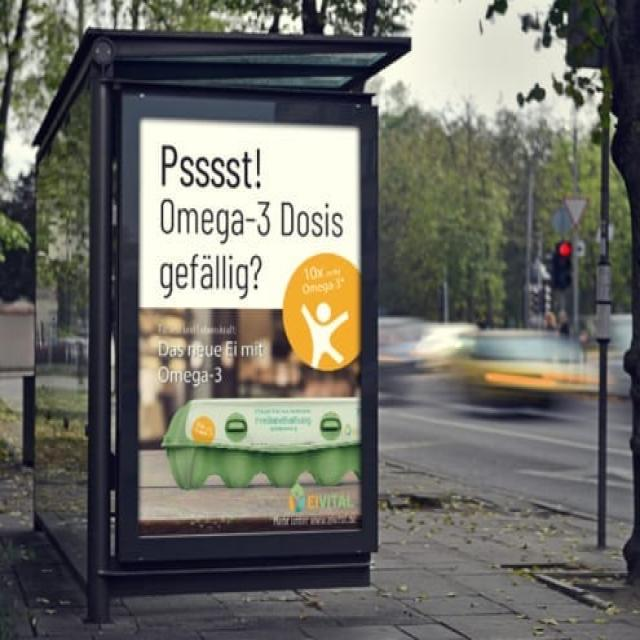Werbetafel frei: (113, 79, 381, 567)
